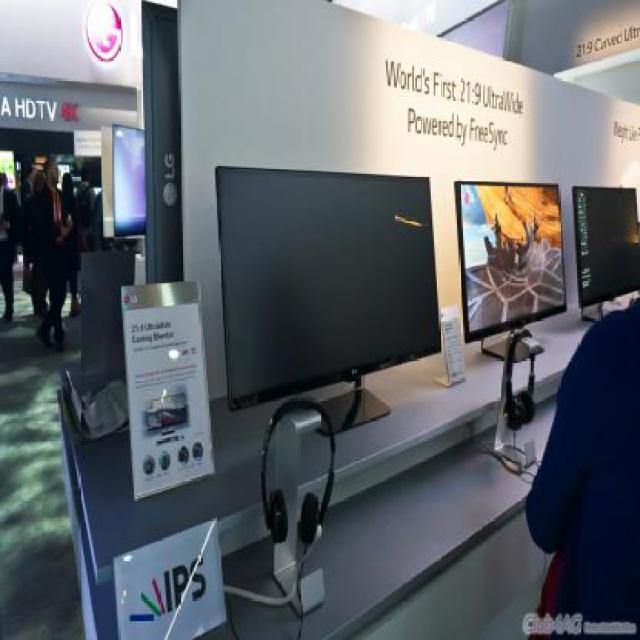earphone: (260, 388, 344, 552), (494, 314, 544, 442)
laptop_computer: (195, 156, 453, 408), (450, 162, 568, 346), (557, 178, 640, 307)
